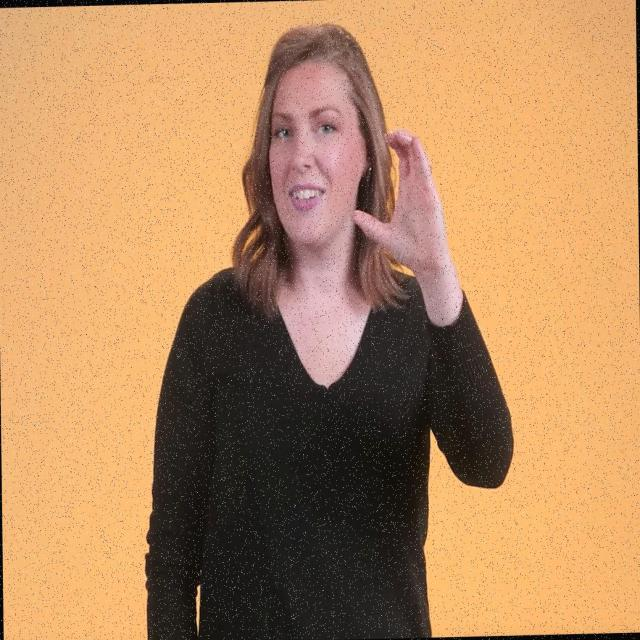C: (348, 124, 450, 274)
